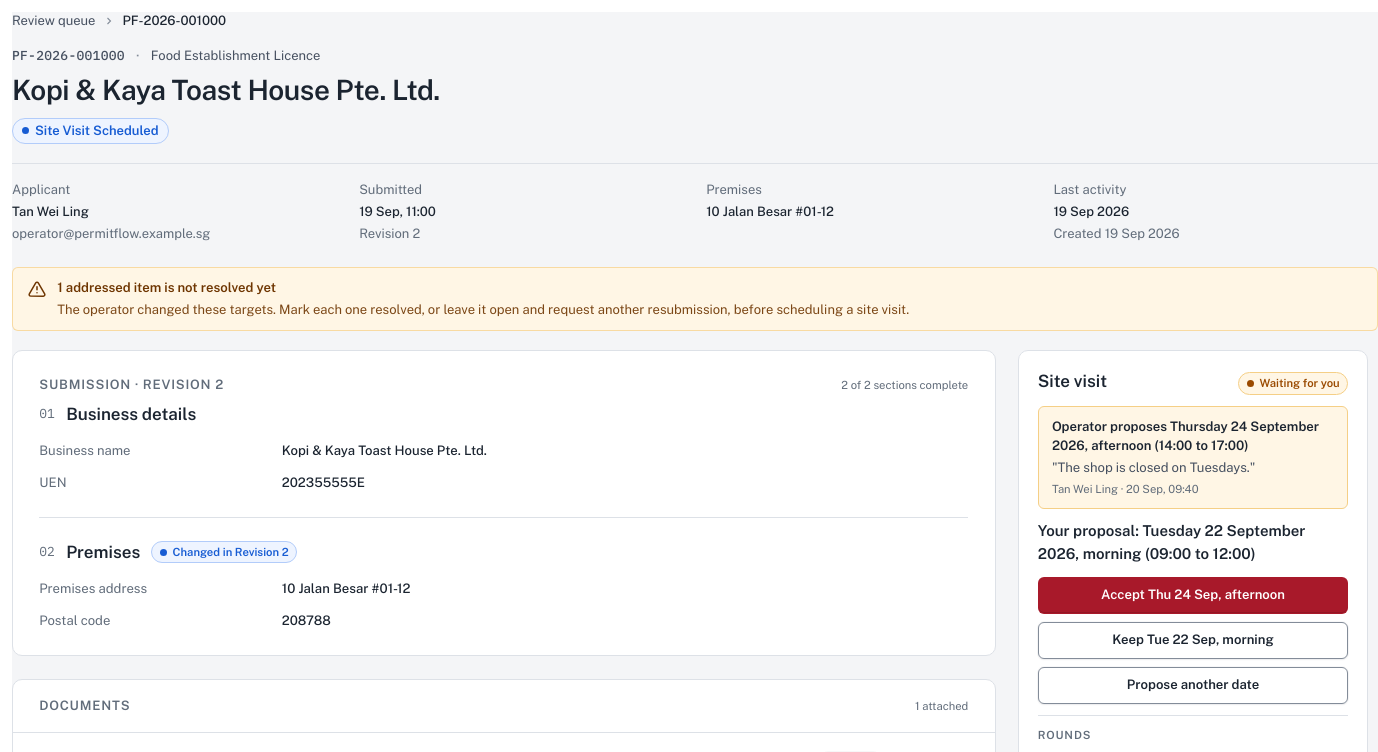
Test: site visit appointment, officer side (US-084) › on a counter-proposal offers accept, keep and a third date; accept posts the decision
Check: the text "Waiting for you" is shown, box x1=1238 y1=372 x2=1348 y2=394
Check: the text "\"The shop is closed on Tuesdays.\"" is shown, box x1=1052 y1=460 x2=1255 y2=475
Click the button "Accept Thu 24 Sep, afternoon": (1193, 595) x1=1038 y1=576 x2=1348 y2=614
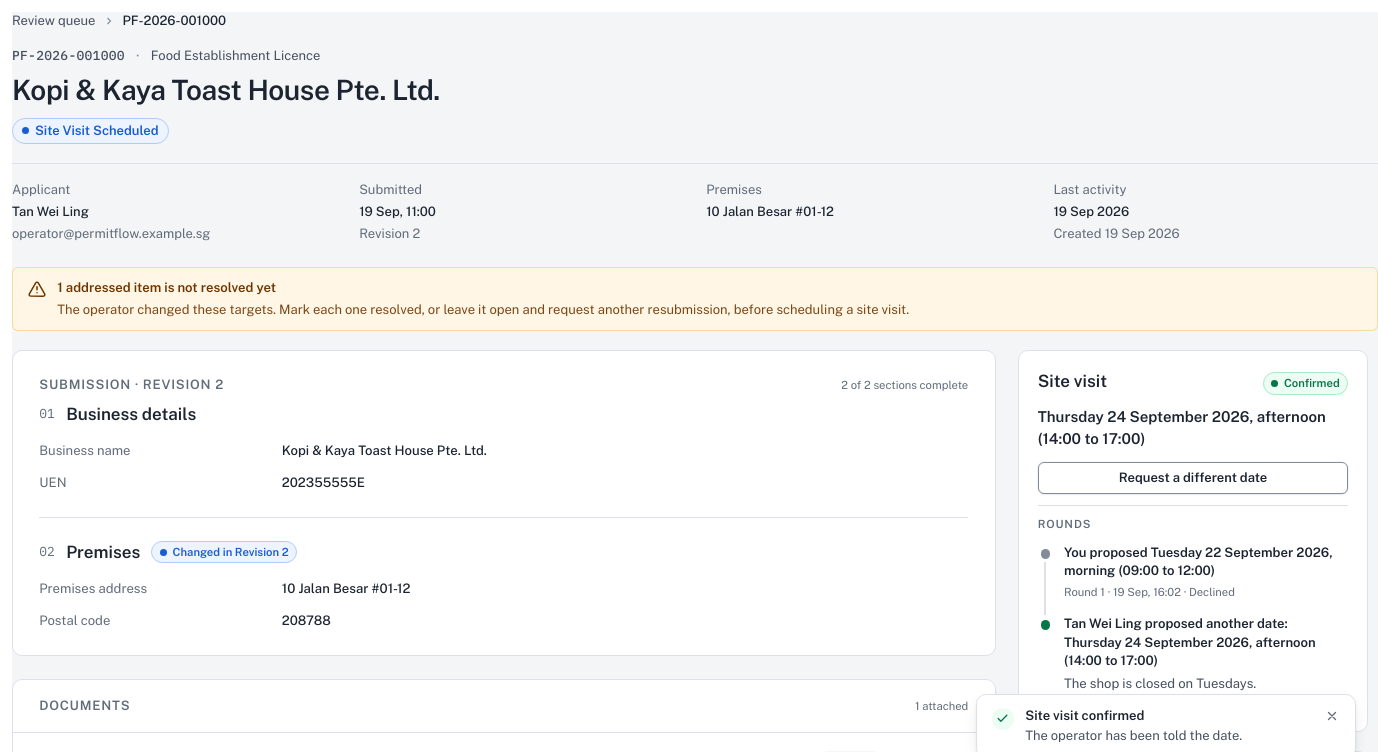
Check: the button "Request a different date" is enabled, box x1=1038 y1=462 x2=1348 y2=494
Check: the text "Confirmed" is shown, box x1=1263 y1=372 x2=1348 y2=394
